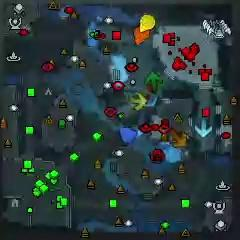p1: (119, 126, 138, 145)
p4: (139, 14, 155, 33)
p5: (132, 23, 151, 45)
x2: (130, 93, 146, 110)
x3: (194, 118, 213, 137)
x4: (145, 71, 161, 90)
x5: (170, 129, 187, 147)
